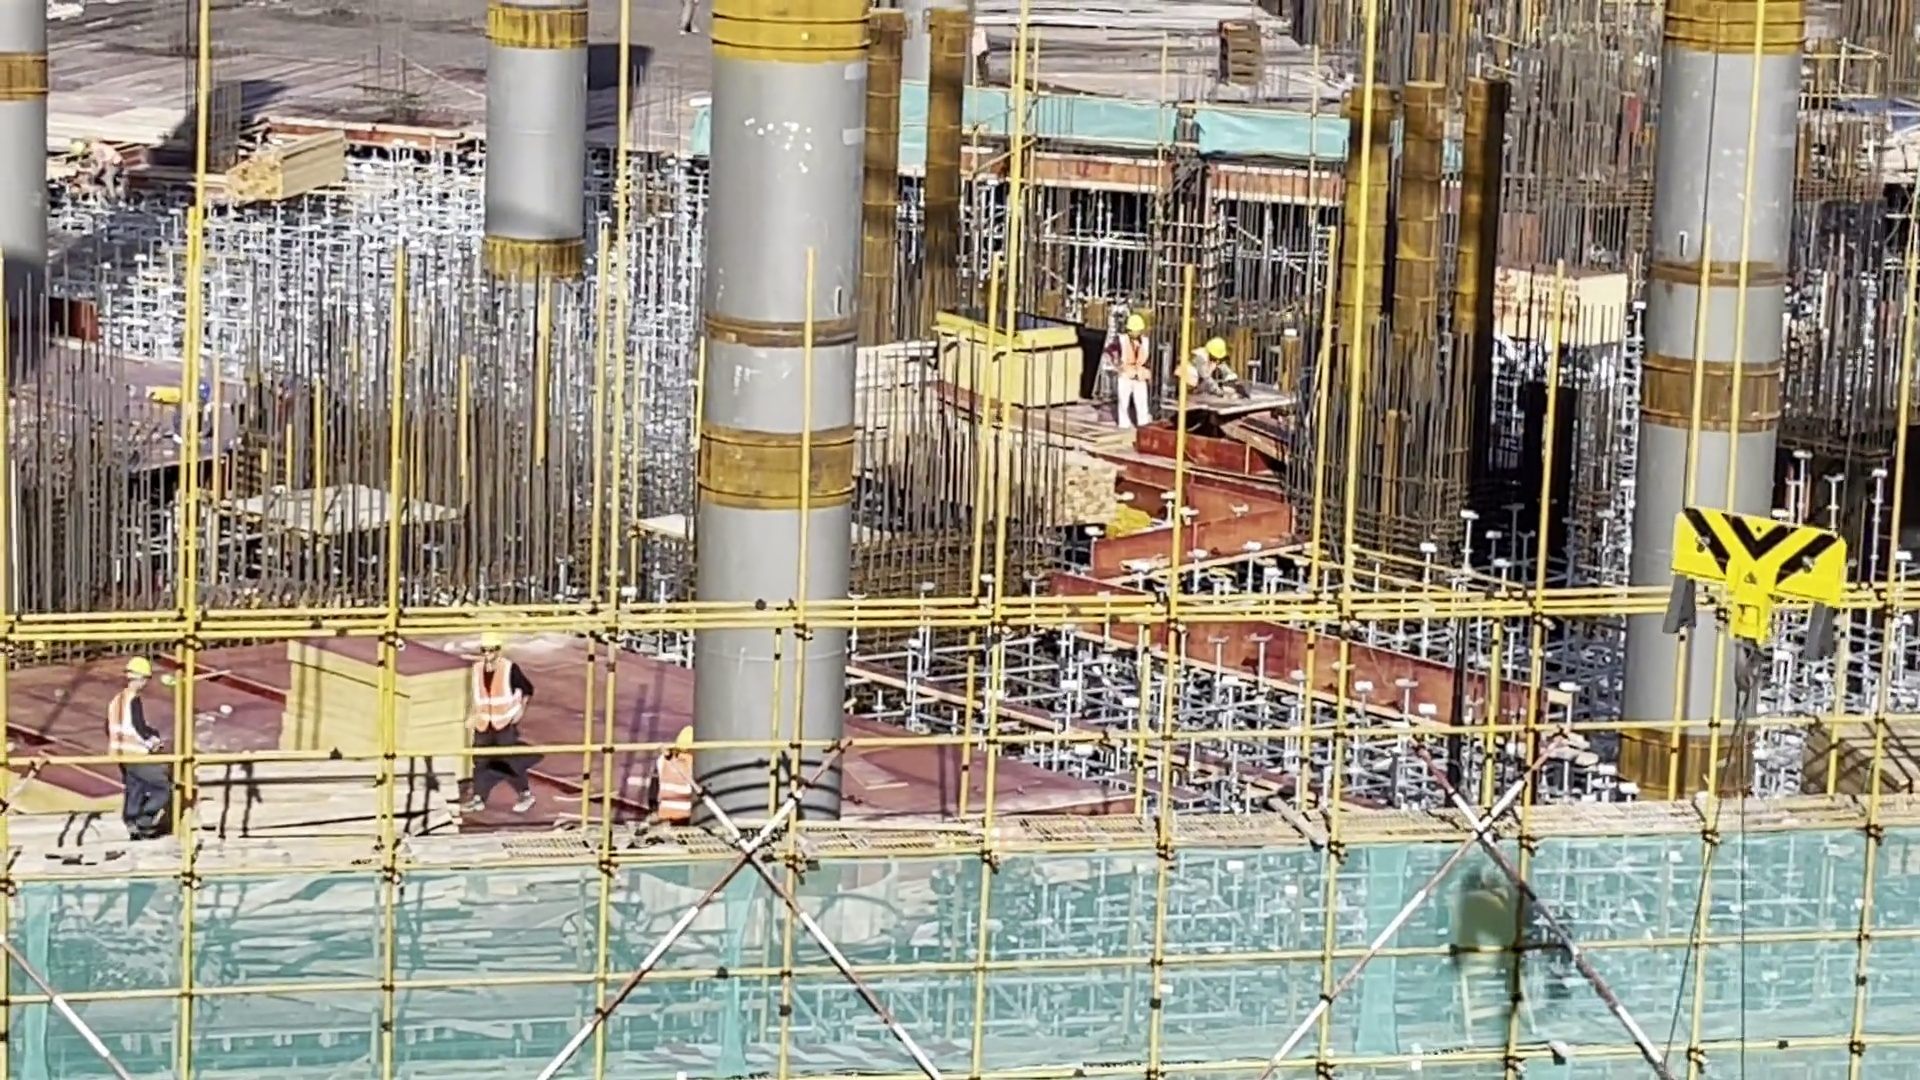board: (261, 627, 473, 808), (930, 311, 1084, 420), (1790, 713, 1920, 817)
ebox: (1443, 884, 1540, 1051)
helmet: (670, 723, 702, 760), (127, 651, 153, 692), (478, 627, 505, 660), (1204, 334, 1230, 364), (1123, 312, 1148, 341)
hook: (1673, 505, 1852, 671)
person: (466, 613, 541, 830), (109, 641, 180, 855), (1108, 301, 1165, 447), (656, 720, 725, 838), (1179, 326, 1250, 433)
vest: (466, 651, 527, 736), (103, 674, 157, 767), (654, 748, 708, 834), (1117, 338, 1153, 387)
wood: (168, 746, 458, 866), (212, 130, 366, 217)
